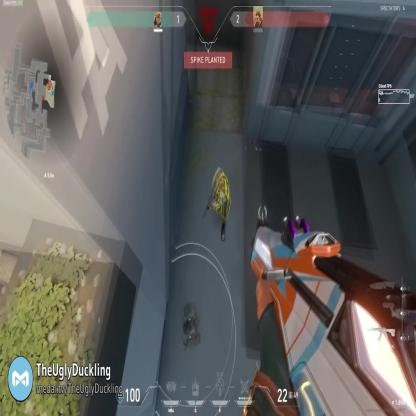enemy: (210, 166, 230, 240)
enemy_head: (216, 173, 226, 196)
